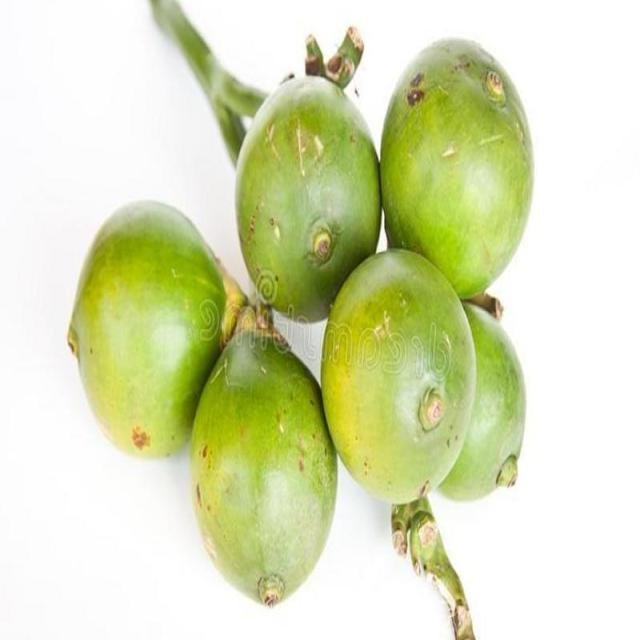good: (318, 248, 522, 510), (67, 202, 244, 463), (189, 331, 338, 610), (379, 40, 535, 303), (234, 77, 383, 327)
